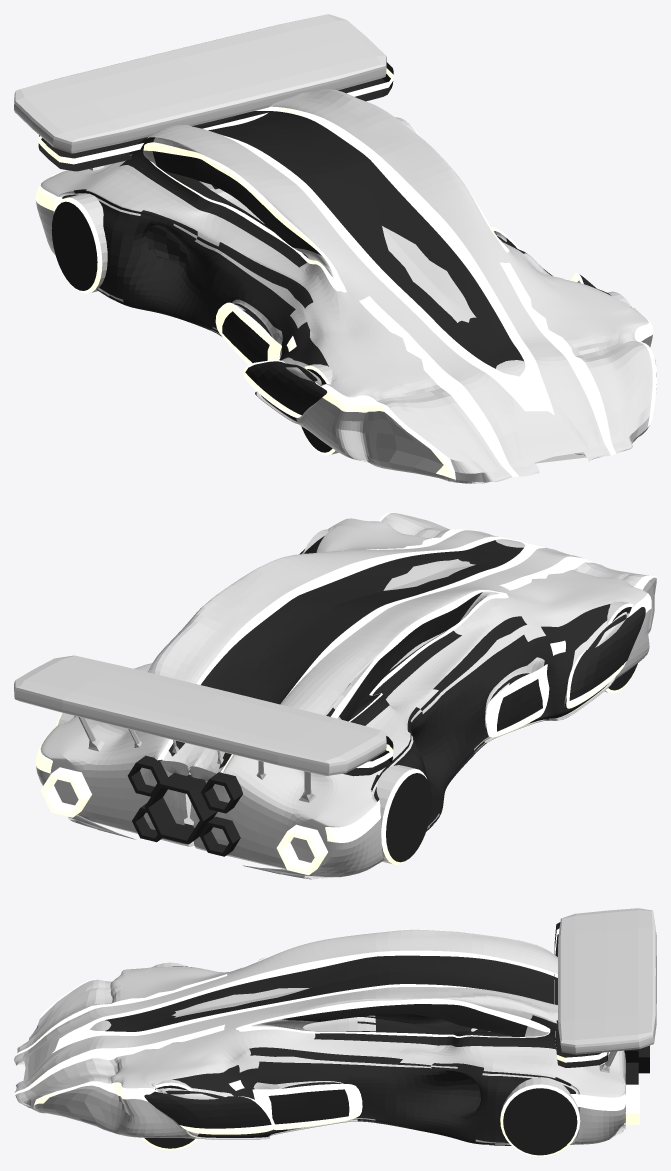
File: Kinda ugl Improv1.fbx
3 views of the same model, one above another, from view 1: azimuth 30°, elevation 25°; view 2: azimuth 150°, elevation 25°; view 3: azimuth 270°, elevation 25° (orthographic). The views are drawn at different scales.
Visible parts, largest first — view 1: Cube, Plane.007, Cylinder; view 2: Cube, Plane.007, Plane.002, Cylinder, Plane.005, Plane.006, Cube.001; view 3: Cube, Plane.007, Cylinder, Plane.002, Plane.006.
Boxes of the visible parts, x1=… form: Cube: x1=35, y1=89, x2=656, y2=483; Plane.007: x1=14, y1=14, x2=393, y2=171; Cylinder: x1=51, y1=117, x2=631, y2=455; Cube: x1=35, y1=512, x2=656, y2=879; Plane.007: x1=14, y1=655, x2=393, y2=776; Plane.002: x1=127, y1=755, x2=242, y2=856; Cylinder: x1=56, y1=529, x2=638, y2=864; Plane.005: x1=276, y1=824, x2=327, y2=875; Plane.006: x1=40, y1=767, x2=91, y2=817; Cube.001: x1=78, y1=716, x2=315, y2=802; Cube: x1=14, y1=929, x2=625, y2=1145; Plane.007: x1=554, y1=908, x2=656, y2=1067; Cylinder: x1=141, y1=962, x2=580, y2=1156; Plane.002: x1=624, y1=1045, x2=649, y2=1084; Plane.006: x1=624, y1=1084, x2=639, y2=1124.
Size of the model in its own units: 514 by 232 by 1050.
